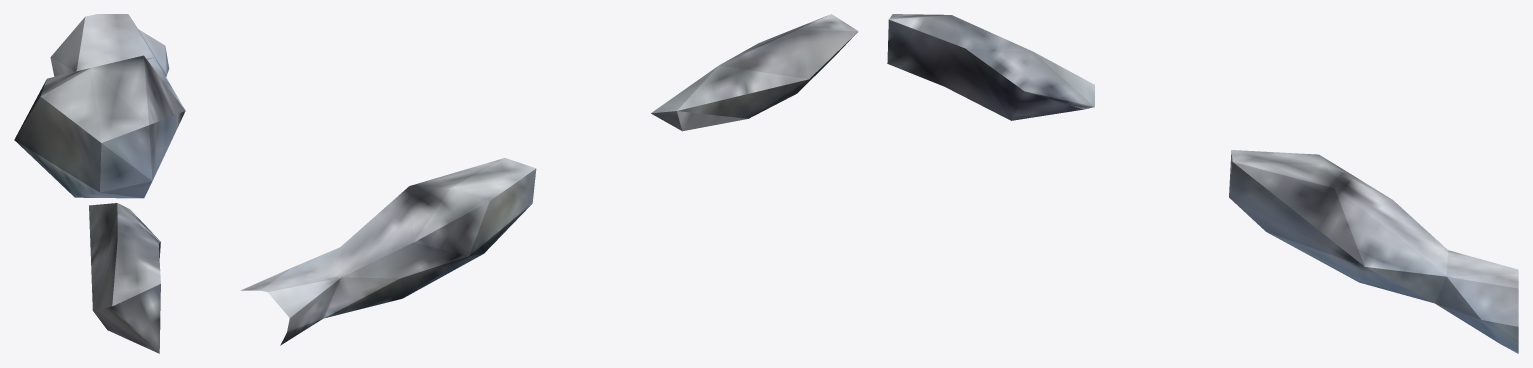
The picture shows the model from 3 angles, left to right: view 1: azimuth 30°, elevation 25°; view 2: azimuth 150°, elevation 25°; view 3: azimuth 270°, elevation 25°; orthographic projection. The views are drawn at different scales.
Bounding box in the file's own units: 0.1383 × 0.0744 × 0.2158.
Materials: 1 (1 with a texture image).
